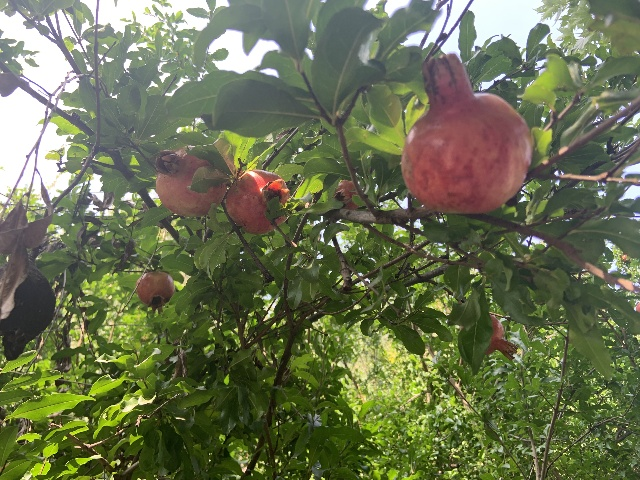ripe: (400, 52, 533, 213), (154, 144, 226, 217), (225, 169, 290, 234), (135, 272, 174, 313), (485, 312, 519, 359), (332, 180, 358, 209), (621, 254, 630, 261)
